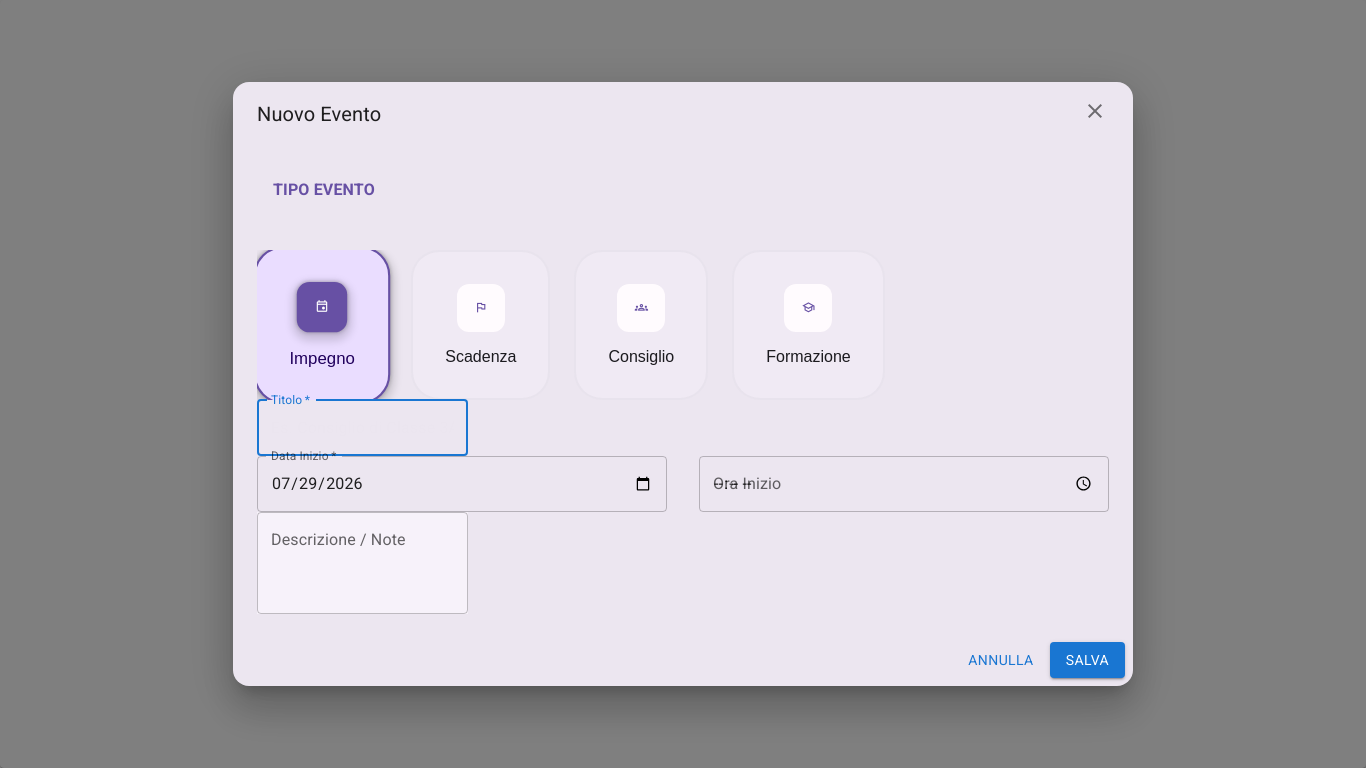
Test case: EventModal › dovrebbe mostrare errore se titolo è vuoto
Note: Try to submit without title
Click the button "Salva".
click(1087, 660)  # box [1050, 642, 1125, 678]
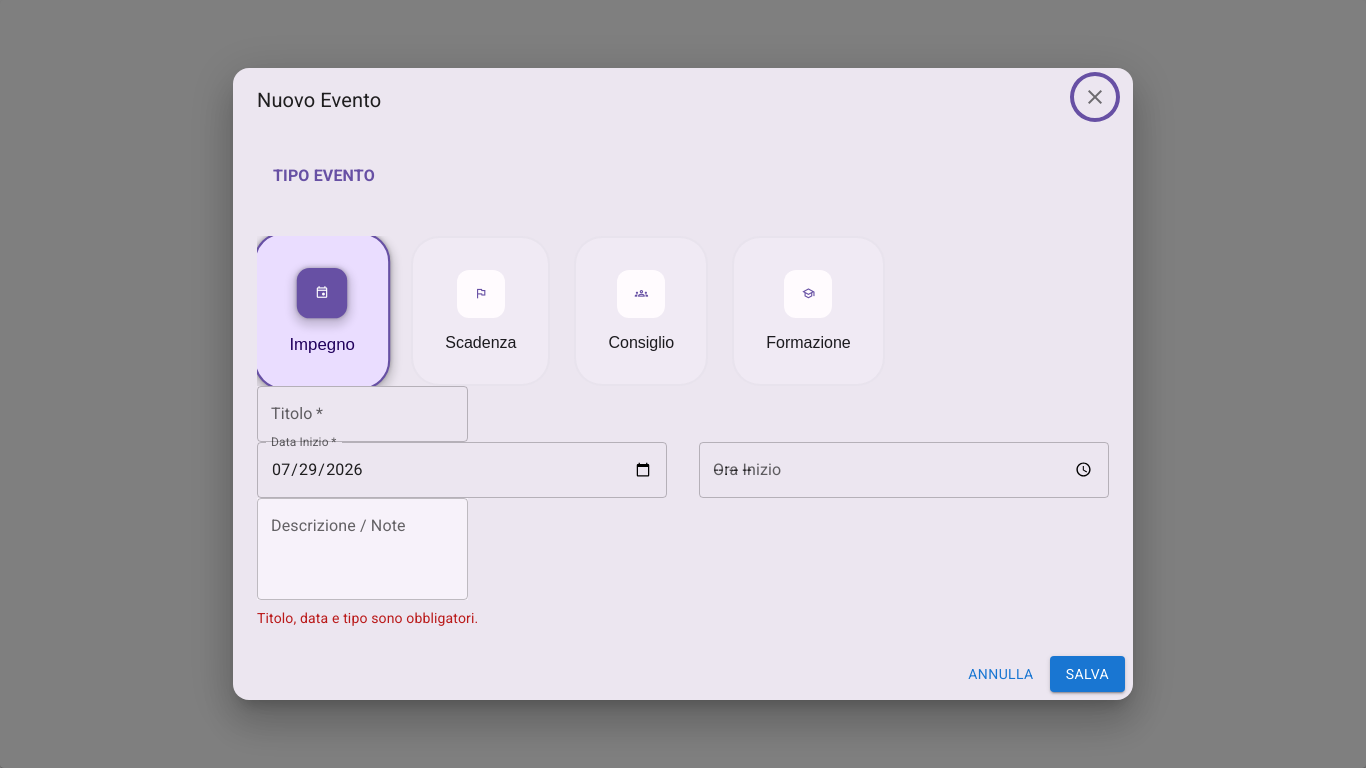
Expected: the text "Titolo, data e tipo sono obbligatori." is shown, [257, 610, 478, 626]
